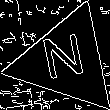N_S: (40, 32, 92, 90)
